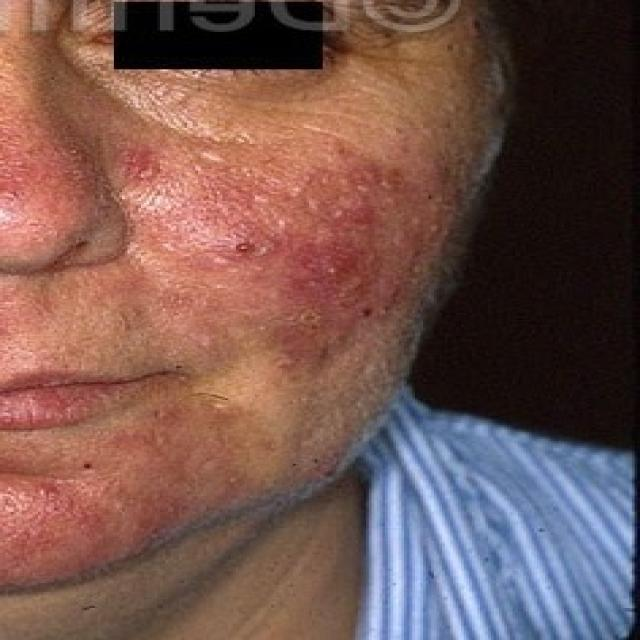Rosacea: (150, 165, 424, 331)
